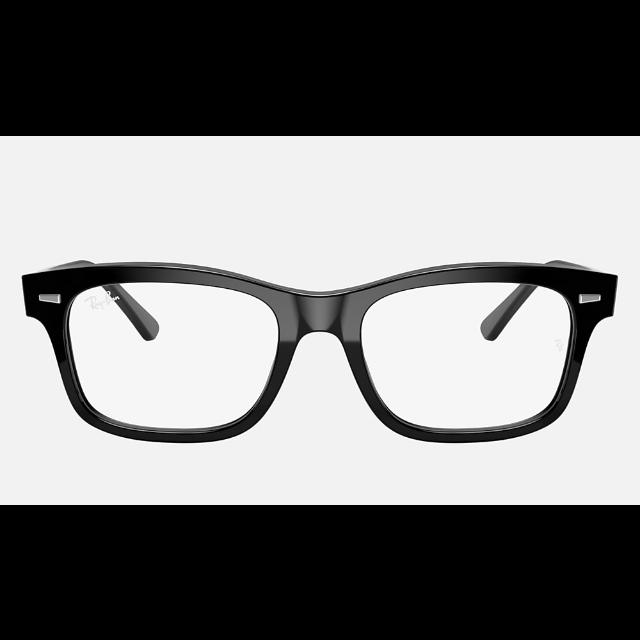glasses: (21, 259, 617, 441)
